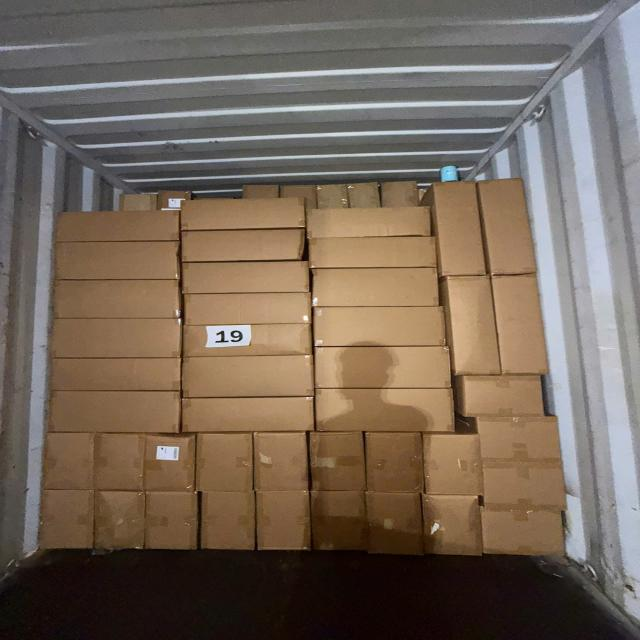Carton: (310, 388, 452, 434), (313, 344, 453, 389), (180, 354, 316, 399), (478, 178, 539, 276), (49, 391, 184, 435), (313, 308, 451, 351), (48, 319, 182, 363), (49, 278, 180, 320), (312, 268, 442, 308), (449, 277, 501, 377), (494, 276, 546, 376), (51, 243, 179, 282), (182, 396, 316, 433), (433, 180, 483, 276), (46, 356, 182, 391), (482, 458, 568, 511), (180, 262, 311, 296), (181, 326, 313, 359), (181, 292, 312, 325), (180, 197, 304, 231), (180, 228, 307, 261), (484, 512, 568, 561), (308, 235, 435, 267), (56, 210, 182, 242), (422, 495, 482, 561), (478, 417, 562, 464), (365, 489, 423, 557), (307, 206, 433, 237), (364, 432, 424, 496), (425, 434, 484, 499), (456, 372, 543, 416), (311, 432, 369, 495), (196, 430, 255, 491), (312, 492, 369, 555), (198, 493, 256, 554), (256, 432, 312, 495), (258, 489, 314, 551), (40, 491, 96, 553), (144, 489, 199, 550), (96, 492, 148, 554), (144, 435, 196, 495), (42, 429, 94, 489), (95, 430, 146, 490)
